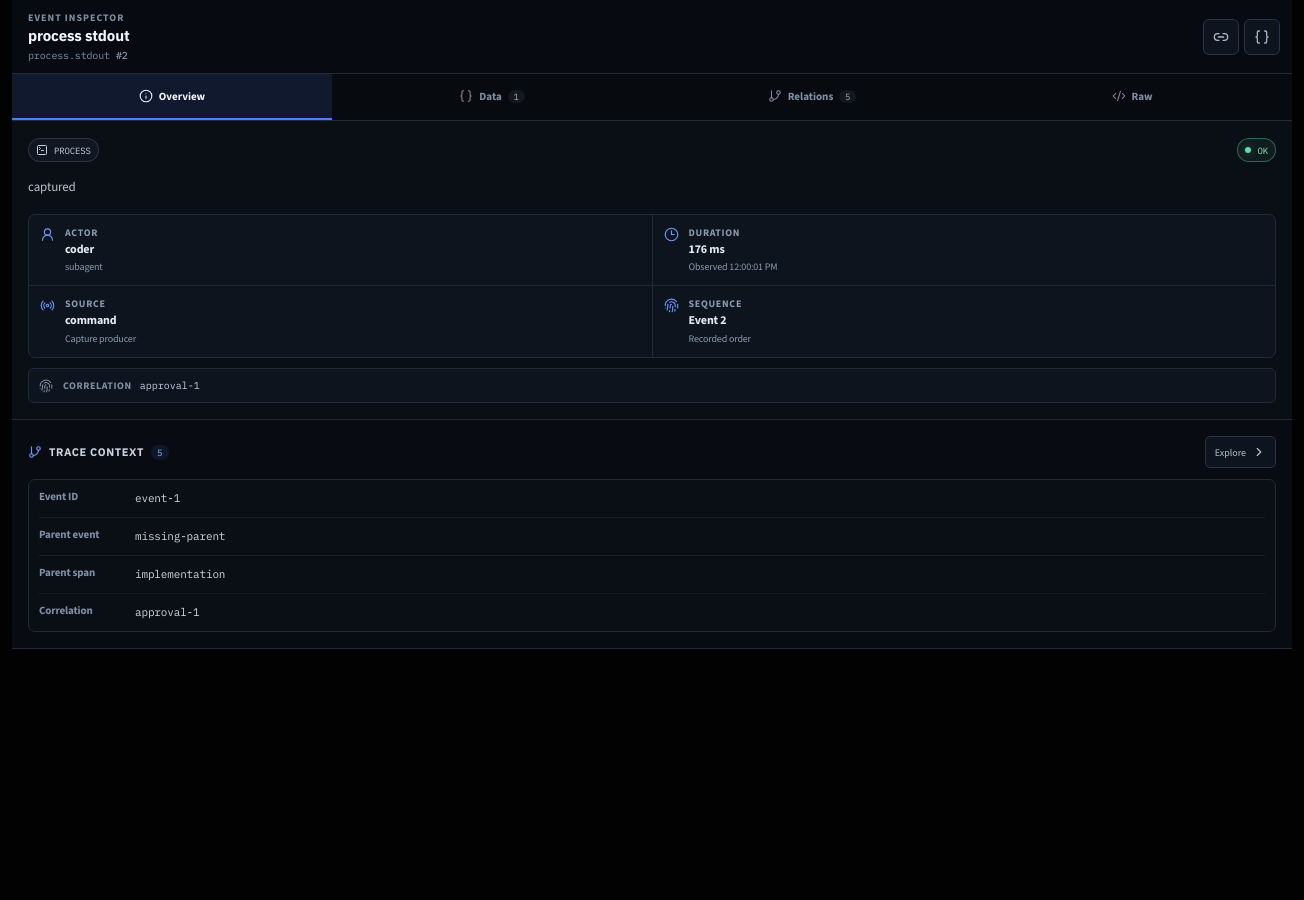
Test: Inspector › surfaces missing parents instead of silently no-oping
Click the tab "Relations 5": point(812, 97) [652,74,972,120]
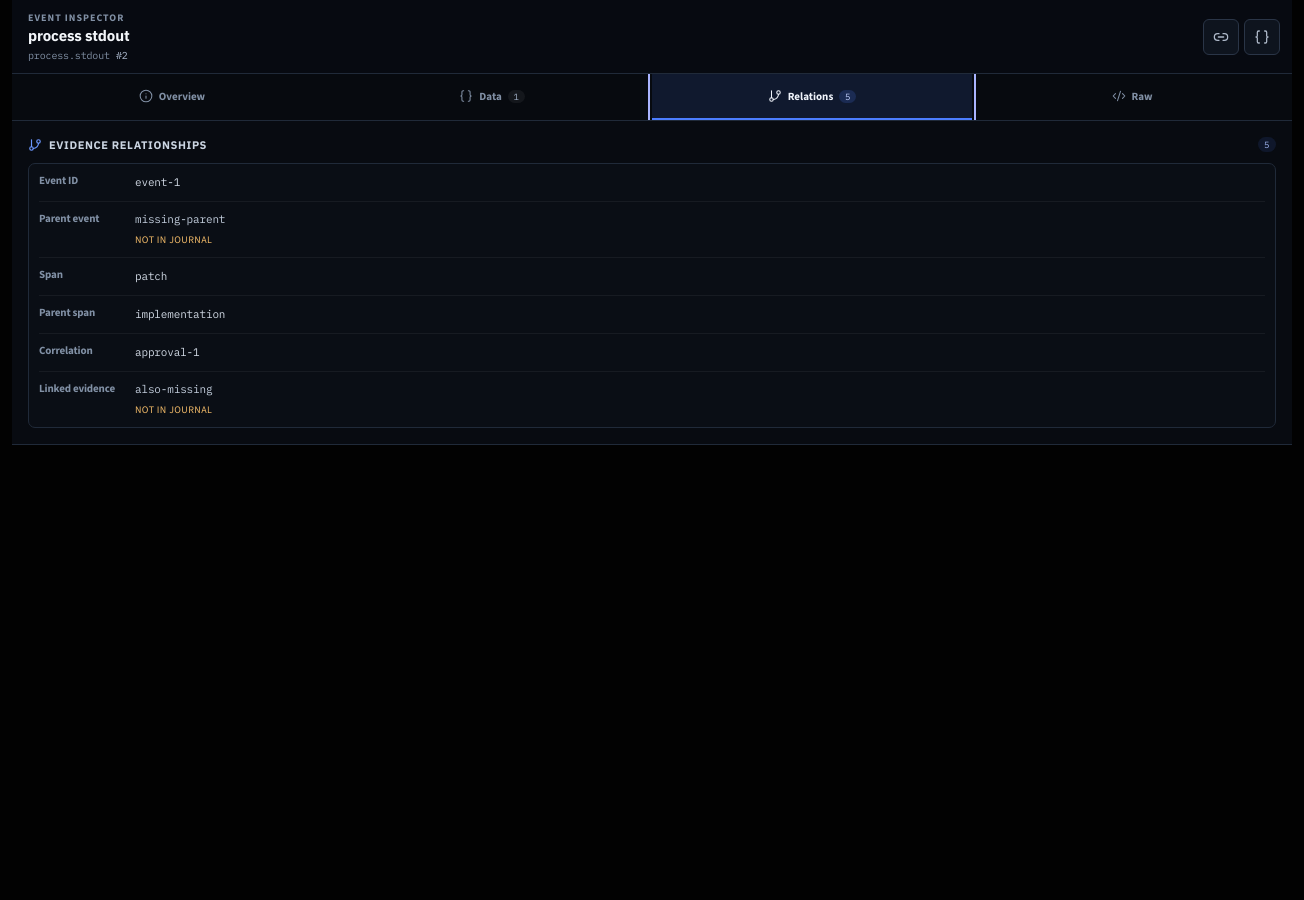
Expected: the text "not in journal" below "missing-parent" is shown, [135,233,212,246]
